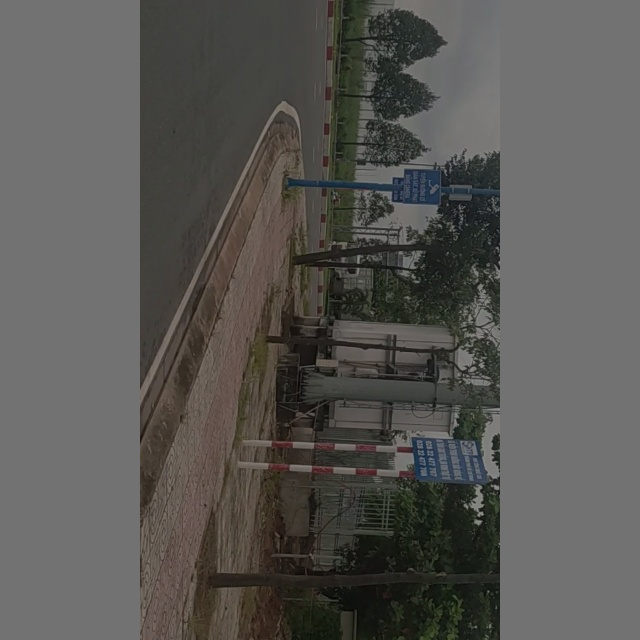Camera: (403, 165, 444, 207)
